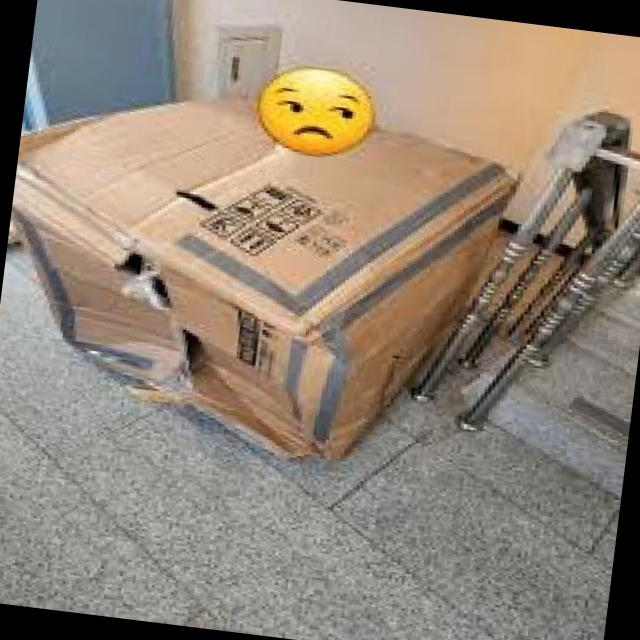box: (8, 94, 511, 462)
crushed: (164, 369, 335, 455), (39, 312, 166, 349)
opened: (112, 244, 212, 388)
tear: (170, 187, 221, 215)
